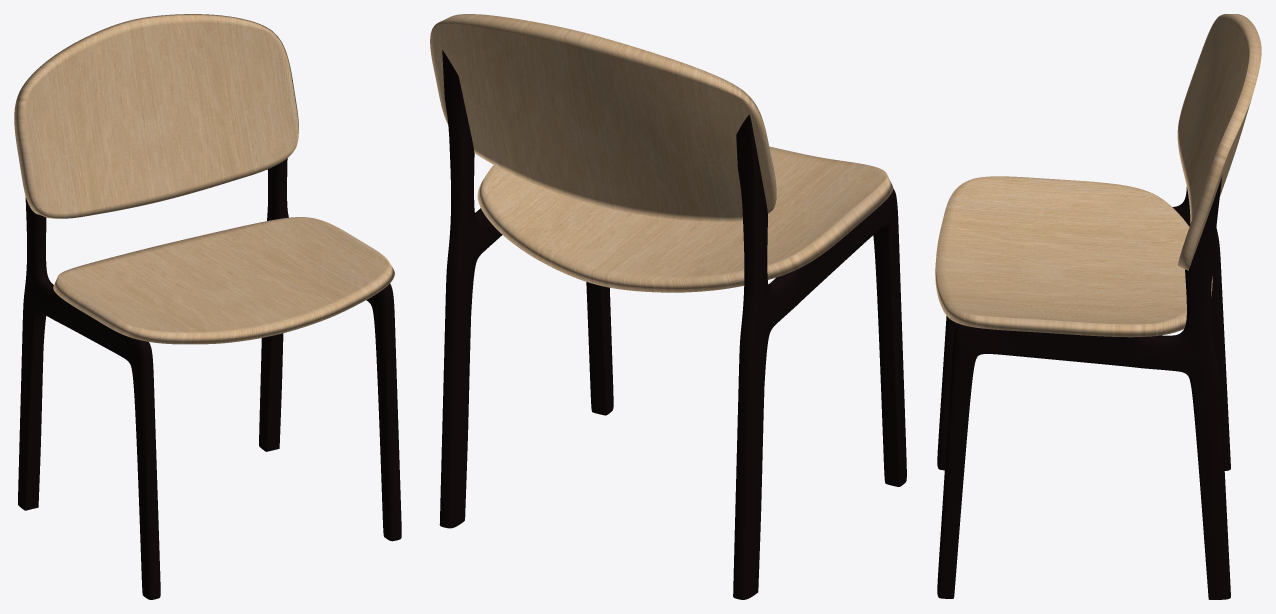
File: Chair.fbx
3 renders of one model, left to right at view 1: azimuth 30°, elevation 25°; view 2: azimuth 150°, elevation 25°; view 3: azimuth 270°, elevation 25°, orthographic. The views are drawn at different scales.
Parts seen in each view (by area): view 1: Plane.001, Cube.001; view 2: Plane.001, Cube.001; view 3: Plane.001, Cube.001.
Part boxes in pixels (left/top/right/bottom): Plane.001: left=14, top=14, right=394, bottom=344; Cube.001: left=18, top=158, right=401, bottom=599; Plane.001: left=430, top=14, right=893, bottom=292; Cube.001: left=439, top=50, right=906, bottom=599; Plane.001: left=935, top=14, right=1261, bottom=337; Cube.001: left=937, top=175, right=1230, bottom=599.
Bounding box in the file's own units: 76.93 × 118 × 71.85.
Materials: 2 (1 with a texture image).
